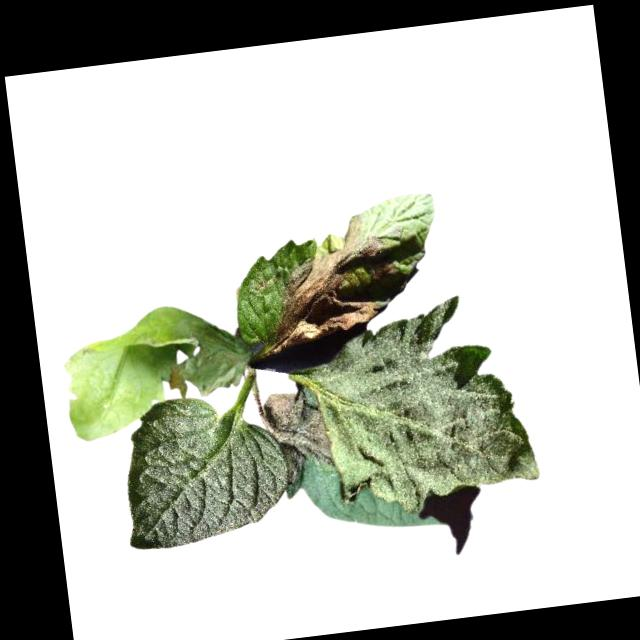Late_blight: (347, 292, 519, 477), (54, 296, 251, 443), (252, 211, 407, 356), (259, 385, 334, 490)
healthy: (113, 386, 296, 553)
